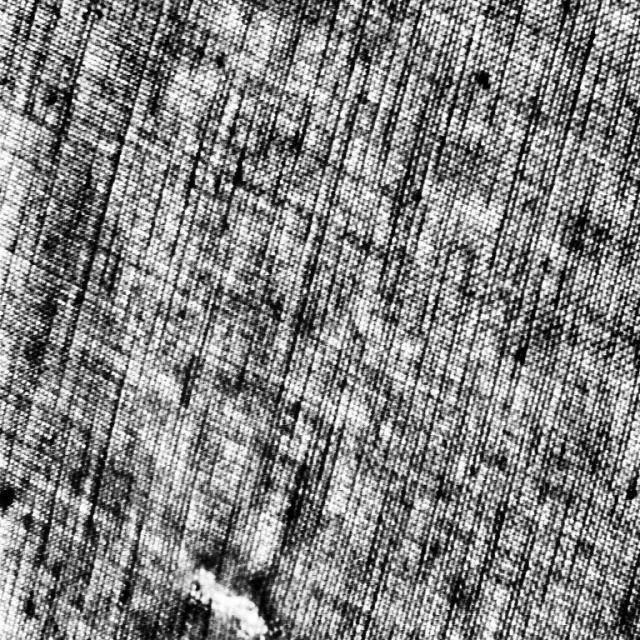Hole: (188, 562, 270, 638)
